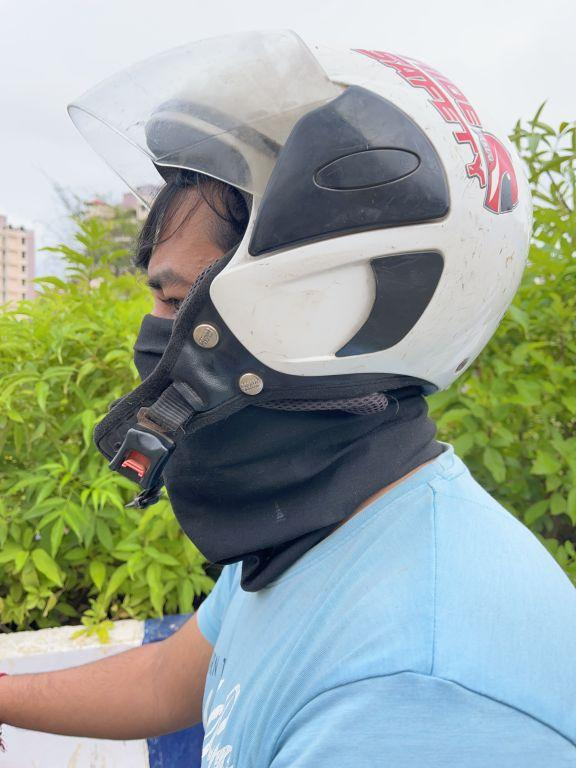helmet: (65, 0, 540, 497)
